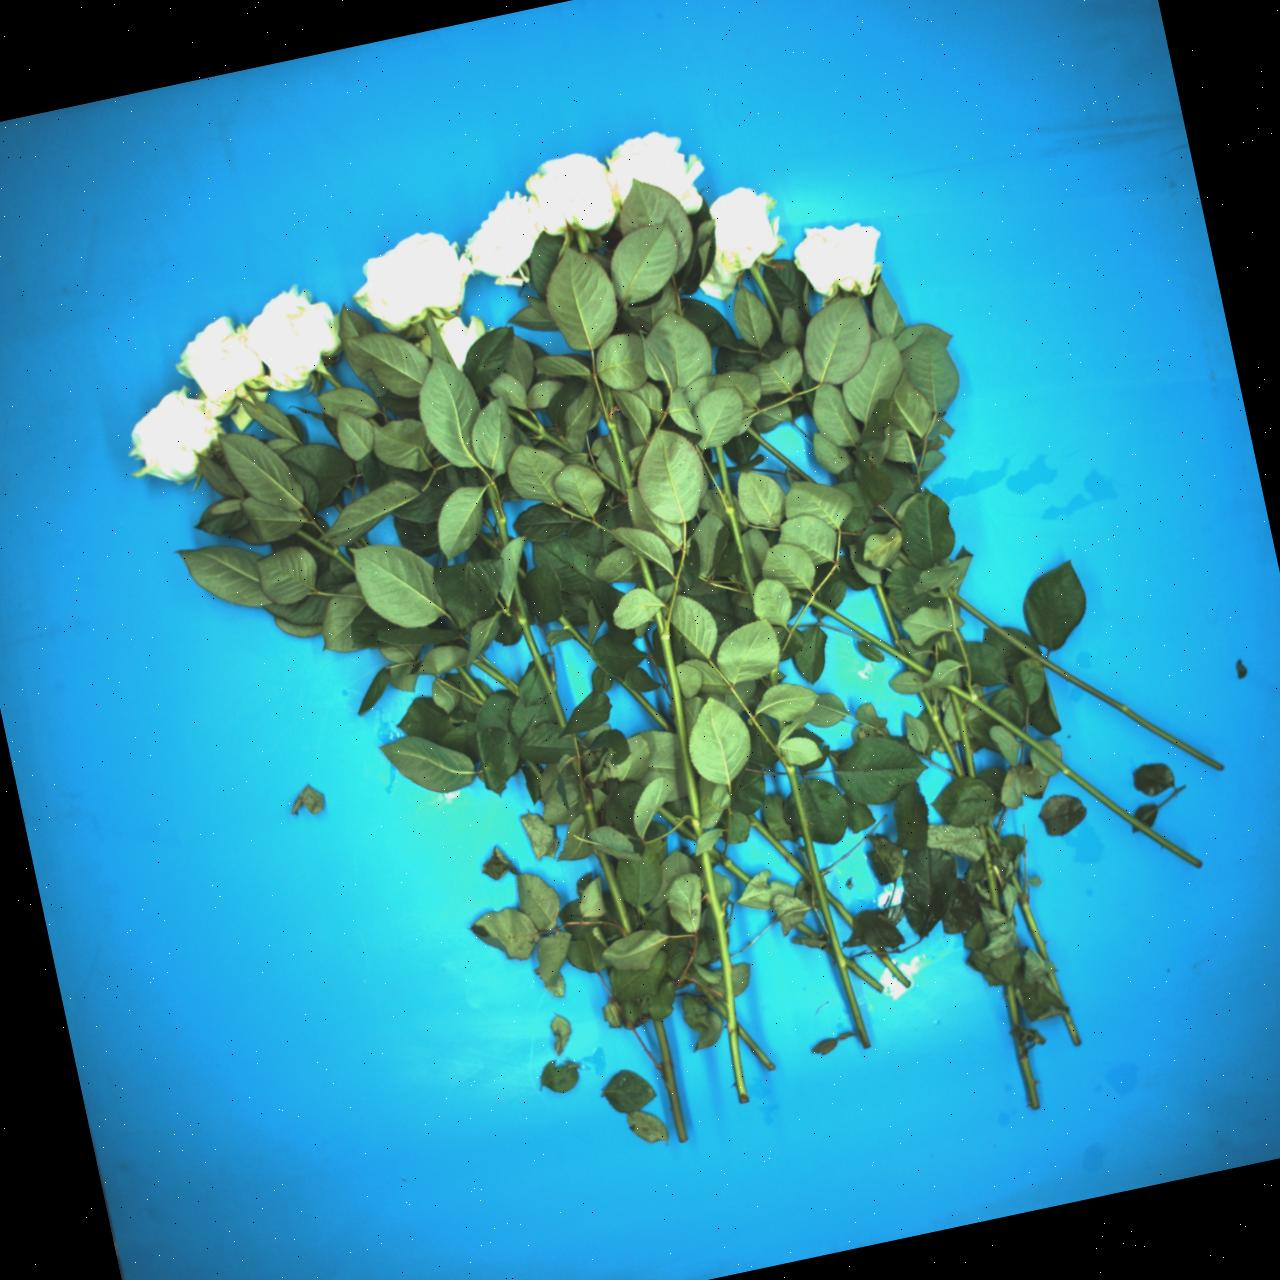Stem: (946, 591, 1226, 778), (945, 678, 1204, 872), (779, 756, 871, 1050), (701, 850, 753, 1104), (654, 608, 704, 838), (810, 598, 933, 680), (505, 577, 568, 730), (713, 445, 758, 601), (744, 813, 819, 885), (651, 1017, 689, 1144), (745, 427, 818, 489), (917, 690, 967, 778), (614, 673, 676, 736), (598, 380, 633, 489), (1009, 876, 1050, 962), (595, 844, 633, 934), (291, 530, 362, 574), (478, 468, 515, 547), (951, 690, 976, 778), (733, 1022, 777, 1073), (750, 267, 785, 328), (870, 940, 912, 989), (471, 658, 524, 696), (1014, 1040, 1042, 1110), (839, 954, 885, 995), (707, 845, 753, 885), (873, 583, 901, 642), (658, 805, 701, 843), (556, 615, 594, 653), (819, 890, 858, 927), (455, 663, 489, 703), (982, 847, 1001, 913), (697, 986, 733, 1020), (634, 551, 658, 598), (476, 531, 504, 554), (1005, 985, 1020, 1024), (983, 825, 1006, 852), (1063, 1014, 1082, 1046), (583, 801, 599, 830), (322, 369, 343, 390), (796, 921, 818, 941), (526, 756, 545, 779), (788, 588, 811, 604), (576, 229, 588, 254), (1049, 972, 1062, 996), (894, 639, 910, 658), (937, 634, 947, 652), (768, 669, 778, 687), (777, 719, 788, 735), (333, 502, 346, 515), (368, 417, 381, 429), (515, 566, 527, 578), (980, 824, 988, 842), (1012, 874, 1021, 888), (825, 944, 833, 959), (359, 536, 369, 547), (248, 390, 257, 401)
flower: (341, 217, 488, 356), (230, 274, 359, 401), (115, 377, 231, 499), (170, 306, 279, 415), (696, 183, 791, 307), (522, 145, 624, 250), (458, 182, 550, 291), (601, 125, 712, 215), (794, 222, 883, 299), (428, 304, 490, 370)
